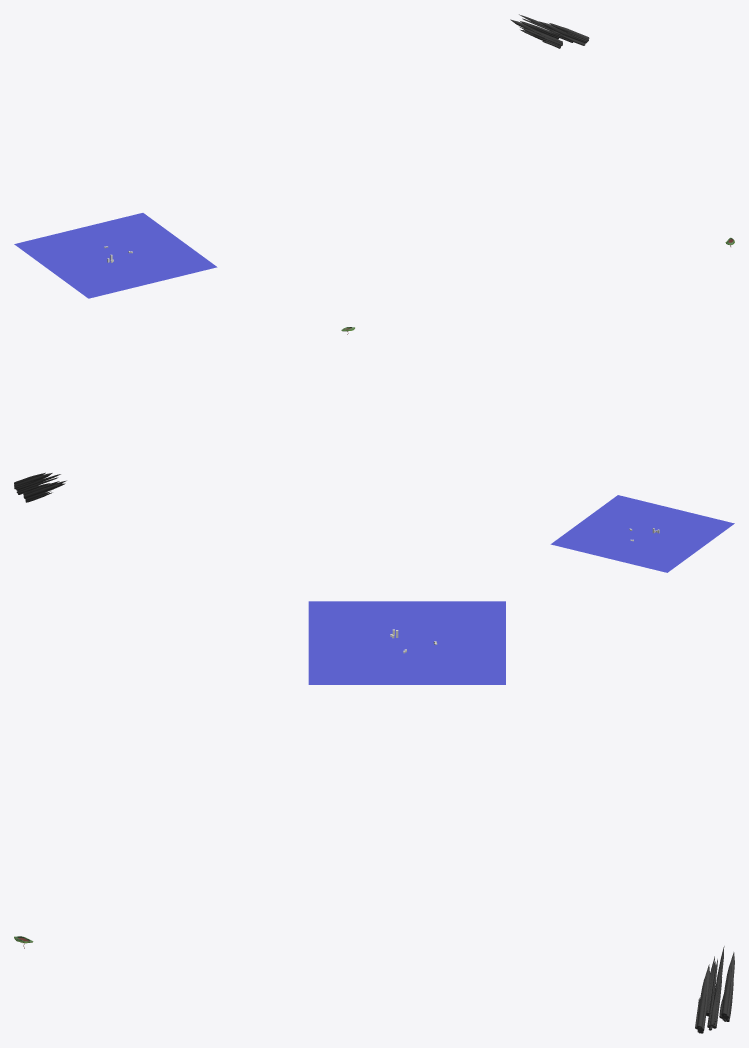
File: octree.glb
3 views of the same model, one above another, from view 1: azimuth 30°, elevation 25°; view 2: azimuth 150°, elevation 25°; view 3: azimuth 270°, elevation 25° (orthographic). The views are drawn at different scales.
Parts seen in each view (by area): view 1: Plane.001; view 2: Plane.001; view 3: Plane.001.
Part boxes in pixels (left/top/right/bottom): Plane.001: left=14, top=213, right=217, bottom=298; Plane.001: left=550, top=495, right=734, bottom=572; Plane.001: left=308, top=601, right=505, bottom=684.
Bounding box in the file's own units: 579 × 34.34 × 422.
